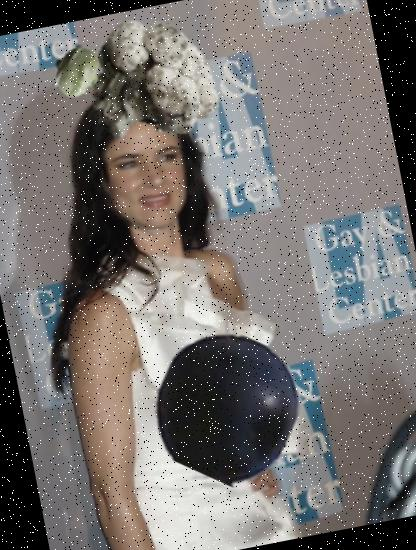Cauliflower: (72, 7, 230, 165)
Grape: (142, 321, 311, 490)
Kohlrabi: (44, 40, 108, 104)
